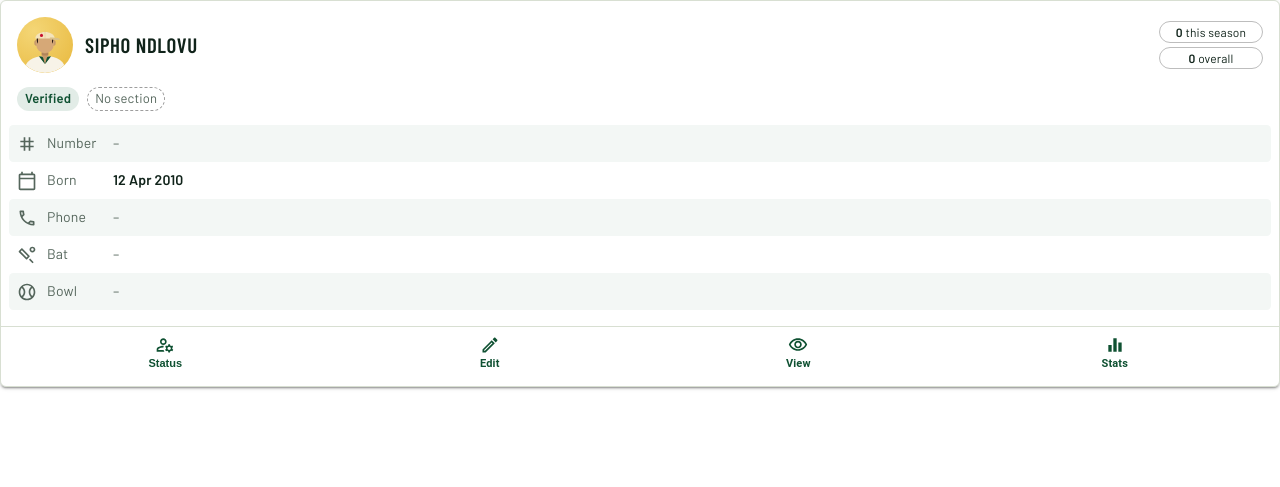
Scenario: PlayerCard › footer and the Status menu › the Status button of {"verificationStatus":"VERIFIED","active":true} offers ["Suspend"]
The image size is (1280, 487).
Click the button with aria-label "Change status" at (165,353), box [9,327,322,378]
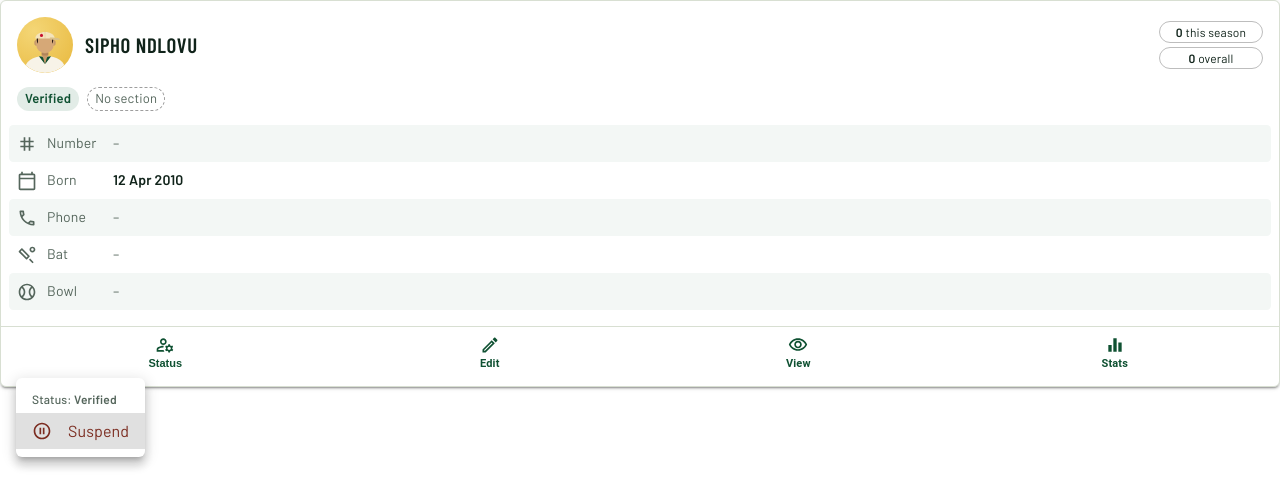
Expected: the menu items read "Suspend", in this order, [16,413,145,449]
